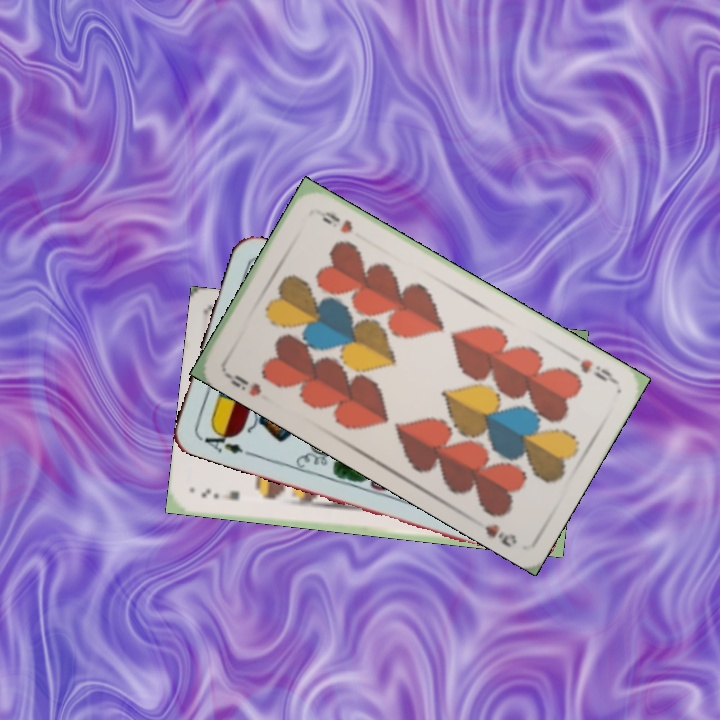E7: (197, 484, 242, 503)
EA: (196, 424, 246, 457)
H9: (219, 364, 264, 399), (575, 355, 619, 386)
